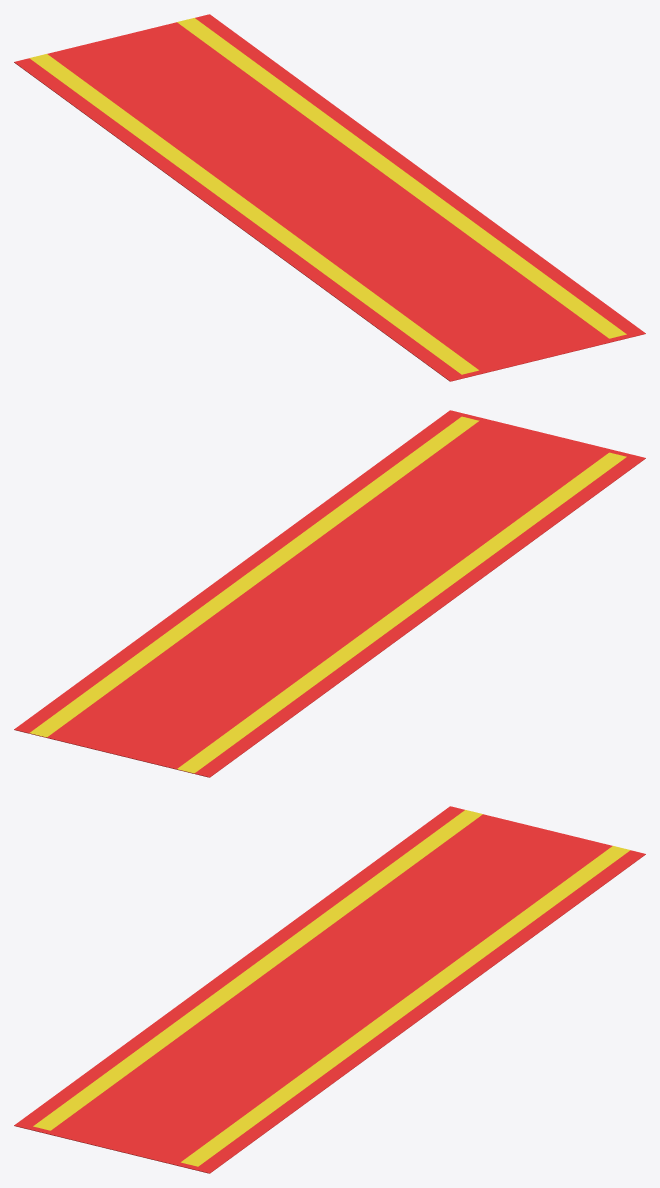
File: Flat_mat (1).fbx
3 views of the same model, one above another, from view 1: azimuth 30°, elevation 25°; view 2: azimuth 150°, elevation 25°; view 3: azimuth 330°, elevation 25° (orthographic).
Parts seen in each view (by area): view 1: Flat_mat__1_, Plane, Plane__1_; view 2: Flat_mat__1_, Plane, Plane__1_; view 3: Flat_mat__1_, Plane, Plane__1_.
Part boxes in pixels (x1,y1,x2,y2): Flat_mat__1_: [14, 14, 645, 381]; Plane: [177, 18, 626, 338]; Plane__1_: [29, 54, 478, 374]; Flat_mat__1_: [14, 410, 645, 777]; Plane: [29, 416, 479, 737]; Plane__1_: [177, 452, 626, 773]; Flat_mat__1_: [14, 806, 645, 1173]; Plane: [181, 846, 630, 1166]; Plane__1_: [33, 810, 482, 1130].
Size of the model in its own units: 379 by 1.17 by 1461.
